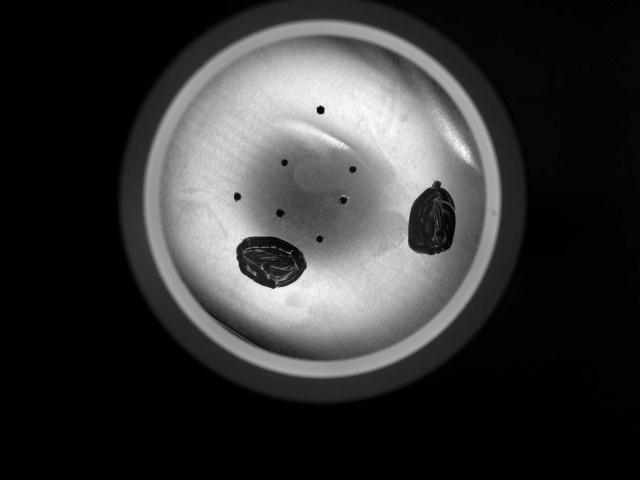zang_wu: (401, 166, 461, 265), (229, 226, 315, 289)
zhen_kong: (330, 185, 365, 211), (343, 153, 365, 183), (309, 98, 333, 123), (226, 184, 249, 210), (307, 227, 332, 250), (268, 203, 291, 225), (274, 154, 296, 174)
